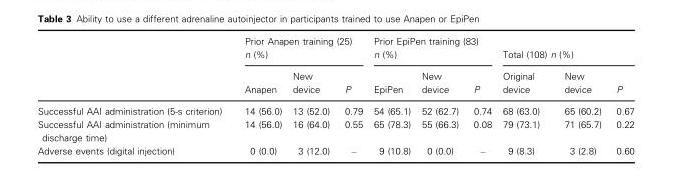table: (36, 36, 633, 155)
table column: (36, 36, 232, 155), (551, 36, 608, 155), (496, 36, 551, 155), (232, 36, 286, 155), (286, 36, 336, 155), (415, 36, 465, 155), (367, 36, 415, 155), (336, 36, 367, 155), (465, 36, 496, 155), (608, 36, 633, 155)
table column header: (36, 36, 633, 100)
table row: (36, 65, 633, 100), (36, 36, 633, 65), (36, 117, 633, 143), (36, 100, 633, 117), (36, 143, 633, 155)
table spanning cell: (496, 36, 633, 65), (232, 36, 367, 65), (367, 36, 496, 65)
